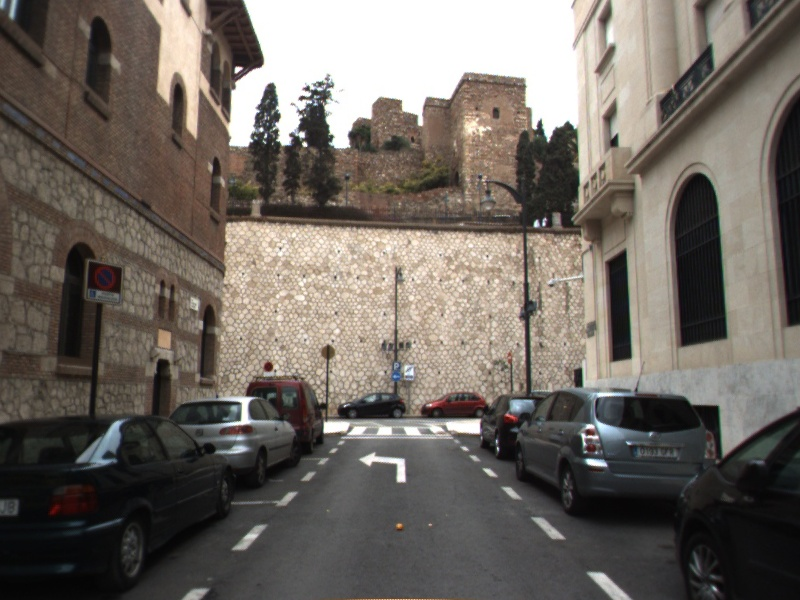LEFT: (357, 450, 408, 485)
